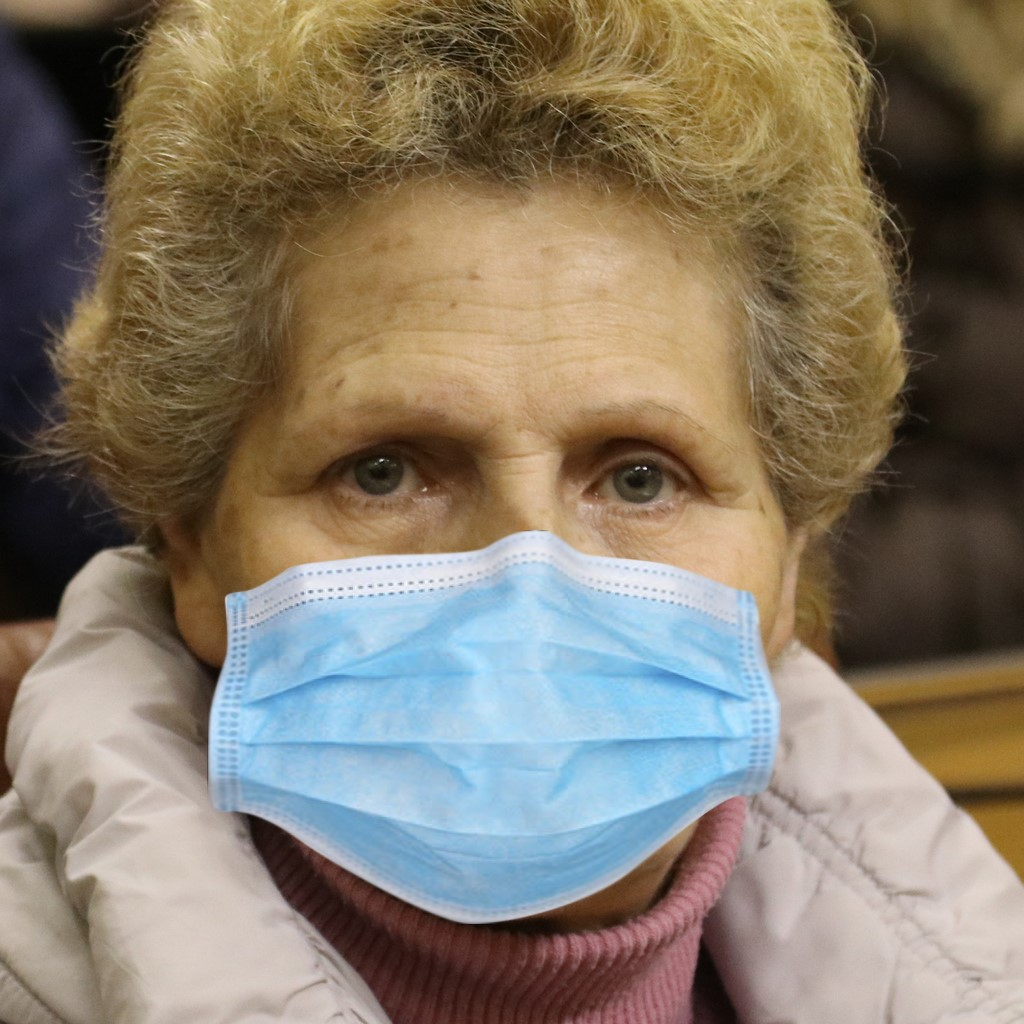con_mascara: (239, 199, 781, 903)
